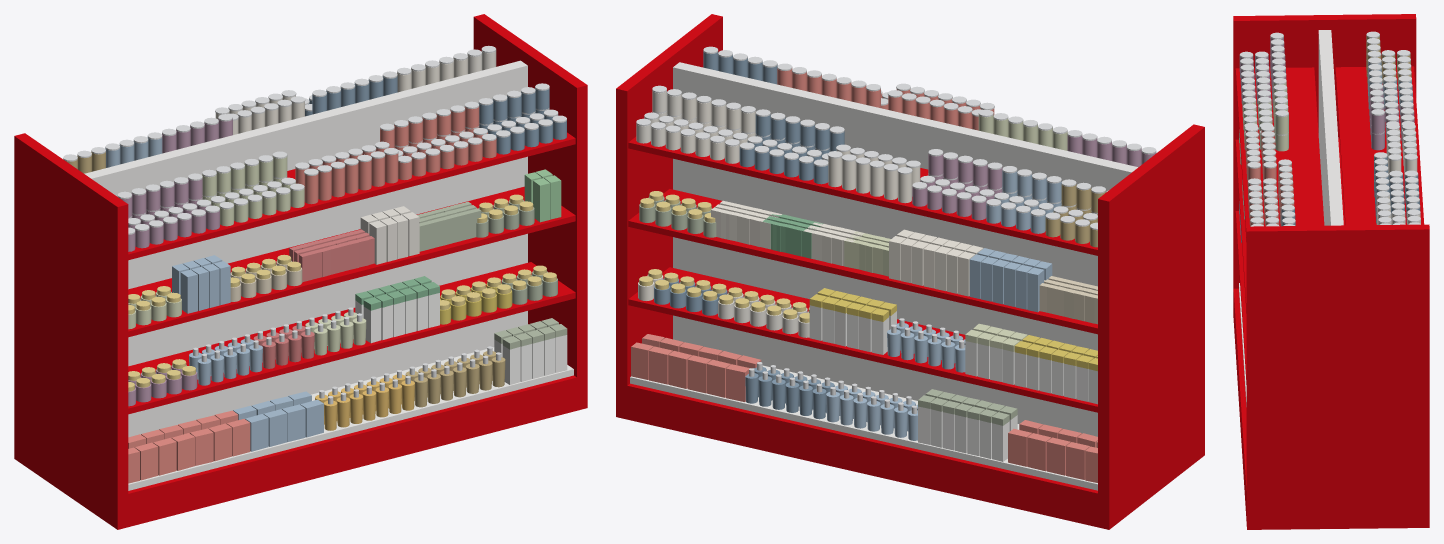
Rendered from minimarket_rack_stocked_red.glb.
The picture shows the model from 3 angles, left to right: view 1: azimuth 30°, elevation 25°; view 2: azimuth 150°, elevation 25°; view 3: azimuth 270°, elevation 25°; orthographic projection. The views are drawn at different scales.
Visible parts, largest first — view 1: Goods, spine, upright_L, plinth, upright_R, shelf_front_0, shelf_front_1, shelf_front_2, deck_base; view 2: Goods, spine, upright_L, plinth, upright_R, shelf_back_0, shelf_back_1, shelf_back_2, deck_base; view 3: upright_R, Goods, upright_L, plinth, shelf_front_2, shelf_back_2, spine, shelf_front_0, shelf_front_1, deck_base.
Part boxes in pixels (box(x1,y1,x2,y2)): Goods: box(63, 45, 567, 483); spine: box(84, 60, 527, 437); upright_L: box(14, 133, 128, 526); plinth: box(14, 375, 587, 529); upright_R: box(473, 14, 587, 409); shelf_front_0: box(128, 262, 575, 414); shelf_front_1: box(128, 186, 575, 337); shelf_front_2: box(128, 132, 575, 260); deck_base: box(128, 347, 573, 490); Goods: box(631, 46, 1158, 482); spine: box(673, 62, 1137, 436); upright_L: box(1098, 124, 1204, 529); plinth: box(616, 383, 1204, 529); upright_R: box(616, 14, 722, 419); shelf_back_0: box(628, 267, 1097, 412); shelf_back_1: box(628, 189, 1097, 334); shelf_back_2: box(628, 136, 1097, 255); deck_base: box(630, 365, 1097, 490); upright_R: box(1246, 224, 1429, 529); Goods: box(1239, 31, 1420, 242); upright_L: box(1233, 14, 1416, 305); plinth: box(1233, 287, 1429, 529); shelf_front_2: box(1235, 67, 1324, 241); shelf_back_2: box(1335, 66, 1424, 225); spine: box(1318, 30, 1343, 225); shelf_front_0: box(1235, 211, 1246, 384); shelf_front_1: box(1235, 139, 1246, 313); deck_base: box(1239, 283, 1246, 406).
Bounding box in the file's own units: 2.42 × 1.55 × 0.9245.
